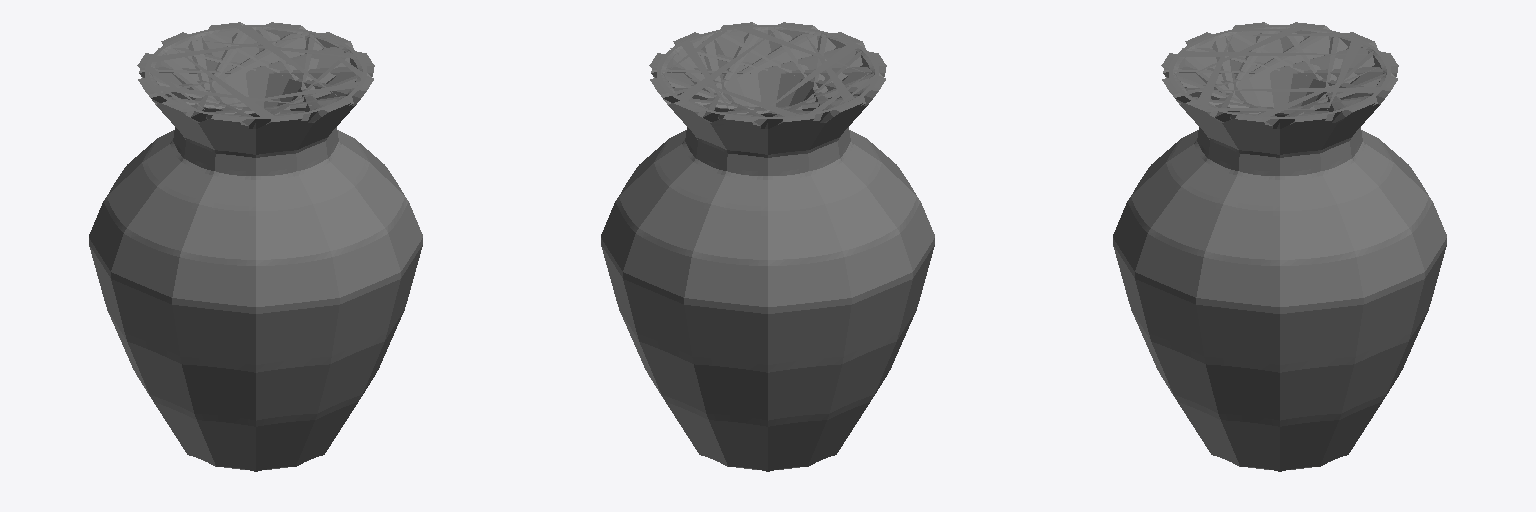
The model's file is Asset_vase_court_01_high.obj.
3 views of the same model, side by side, from view 1: azimuth 30°, elevation 25°; view 2: azimuth 150°, elevation 25°; view 3: azimuth 270°, elevation 25° (orthographic).
Visible parts, largest first — view 1: Vase_court_02; view 2: Vase_court_02; view 3: Vase_court_02.
Boxes of the visible parts, x1,y1,x2,y2 form: Vase_court_02: [89, 22, 422, 471]; Vase_court_02: [601, 22, 934, 471]; Vase_court_02: [1113, 22, 1446, 471].
Size of the model in its own units: 143 by 173 by 143.